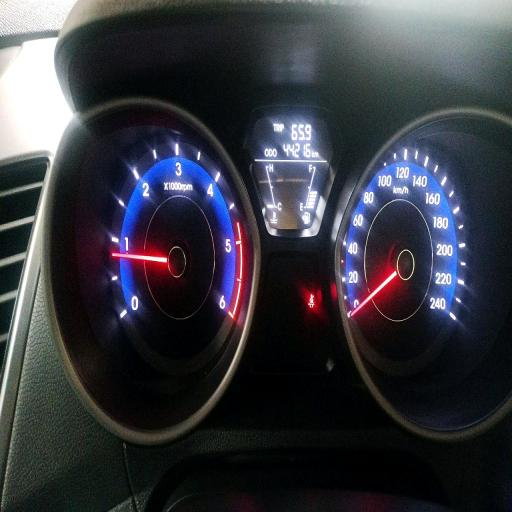belt: (309, 294, 314, 308)
tachometer: (107, 134, 245, 345)
